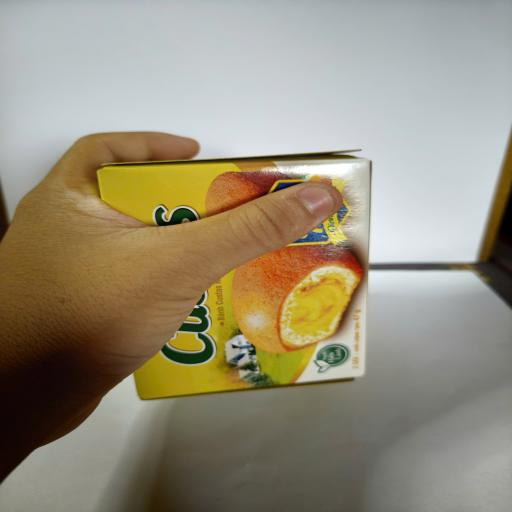custas: (97, 150, 372, 401)
